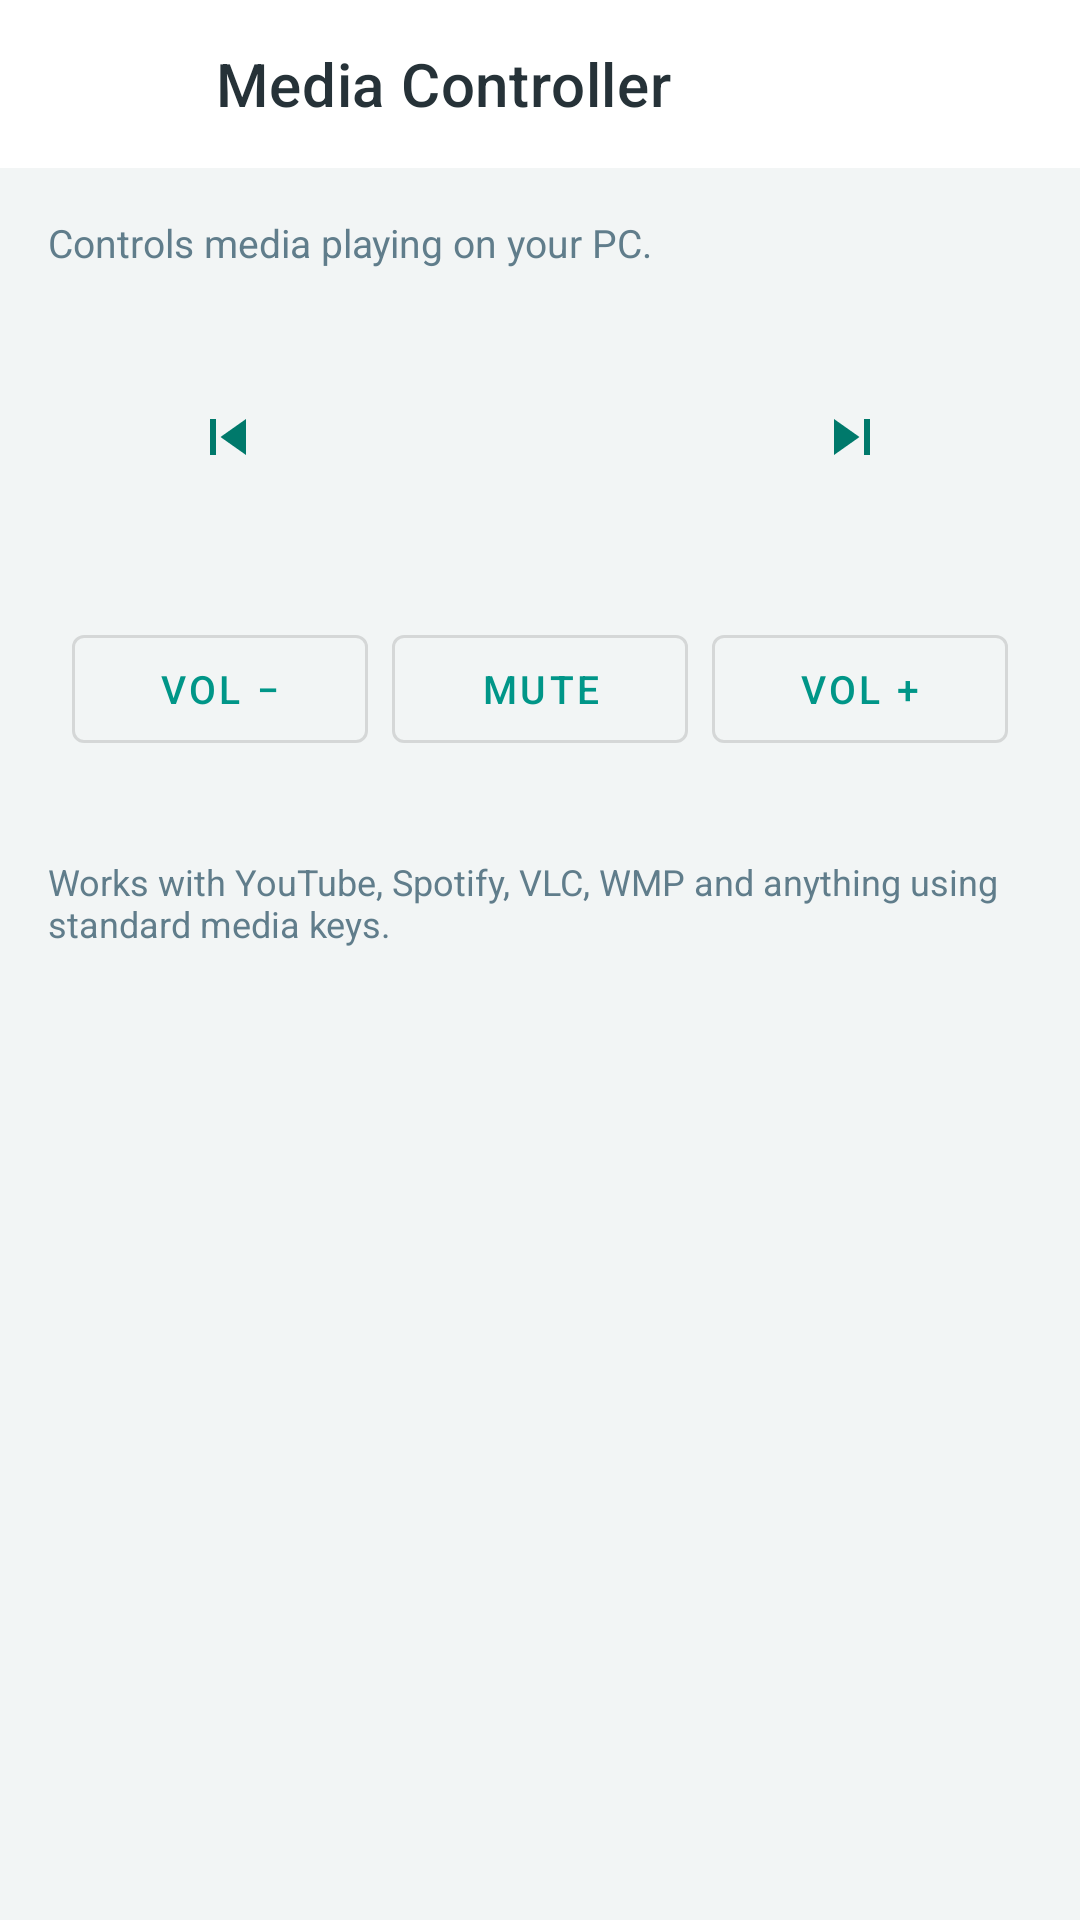

Where to tap for icons on this 1080px x 1920px app screen, as (x,y):
Next: (852,437)
Previous: (228,437)
